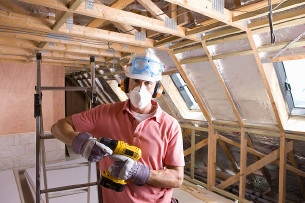Mask: (124, 74, 159, 109)
